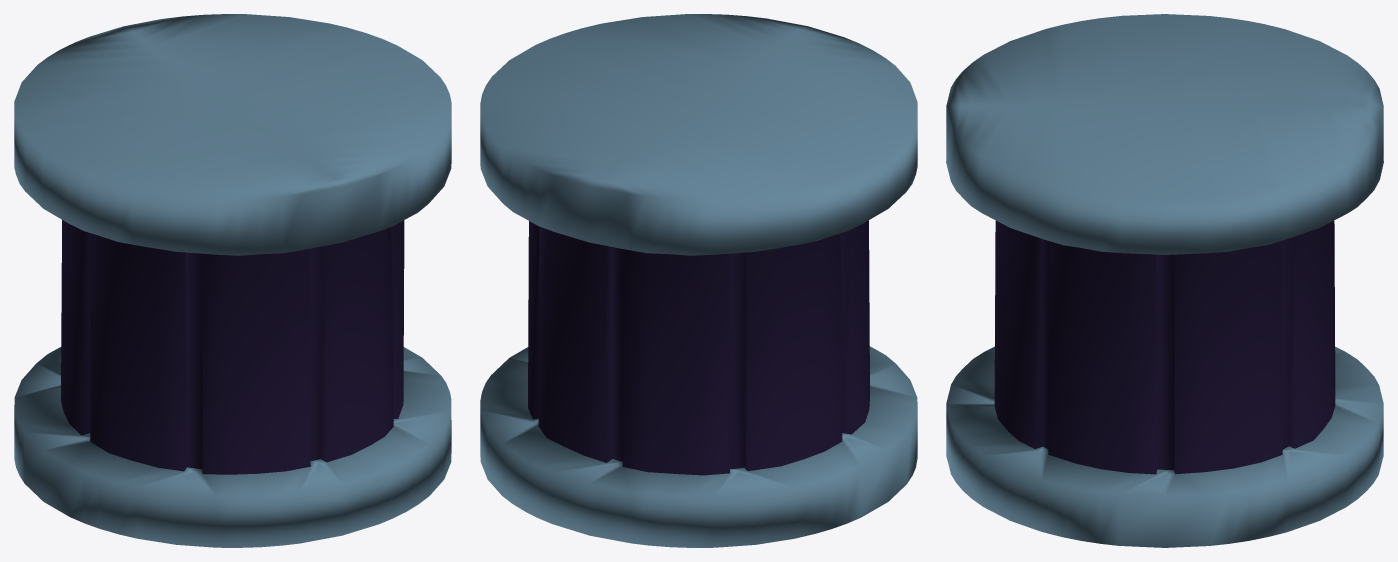
Rendered from Lighthouse_FourthFloor_RAI.fbx.
3 renders of one model, left to right at view 1: azimuth 30°, elevation 25°; view 2: azimuth 150°, elevation 25°; view 3: azimuth 270°, elevation 25°, orthographic.
Visible parts, largest first — view 1: cylinder1_default; view 2: cylinder1_default; view 3: cylinder1_default.
Boxes of the visible parts, x1,y1,x2,y2 form: cylinder1_default: [14, 14, 451, 547]; cylinder1_default: [480, 14, 917, 547]; cylinder1_default: [946, 14, 1383, 547].
Bounding box in the file's own units: 338 × 300 × 338.
